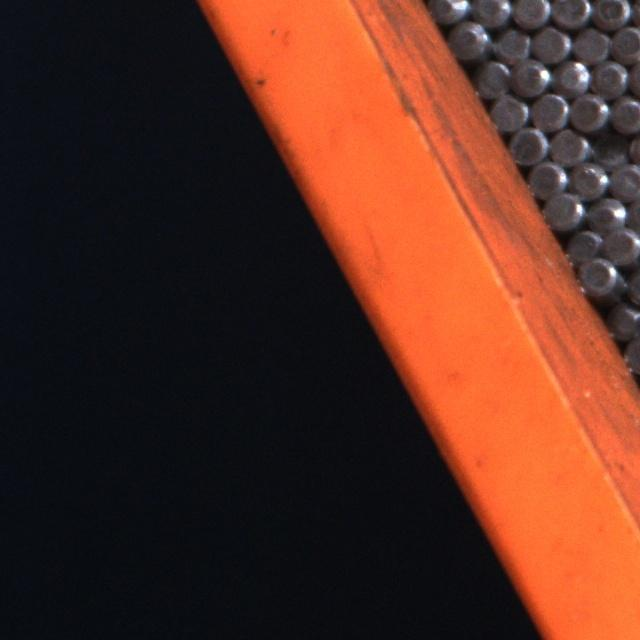tool: (576, 255, 619, 296), (448, 19, 489, 60), (568, 90, 608, 130), (470, 57, 510, 97), (491, 24, 530, 64), (529, 90, 568, 130), (510, 56, 550, 95), (525, 158, 565, 197), (508, 125, 548, 164), (593, 133, 632, 173), (549, 127, 588, 166), (590, 57, 629, 96), (488, 92, 527, 131), (531, 23, 570, 62), (544, 190, 582, 230), (586, 192, 626, 230), (572, 24, 610, 63), (569, 158, 608, 196), (603, 225, 640, 265), (552, 56, 590, 94), (563, 225, 601, 262), (605, 300, 640, 338), (609, 160, 640, 200), (609, 94, 640, 132), (610, 23, 640, 62), (592, 0, 632, 28), (551, 0, 590, 28), (471, 0, 512, 26), (512, 0, 550, 28), (428, 0, 468, 23), (623, 333, 640, 372)
